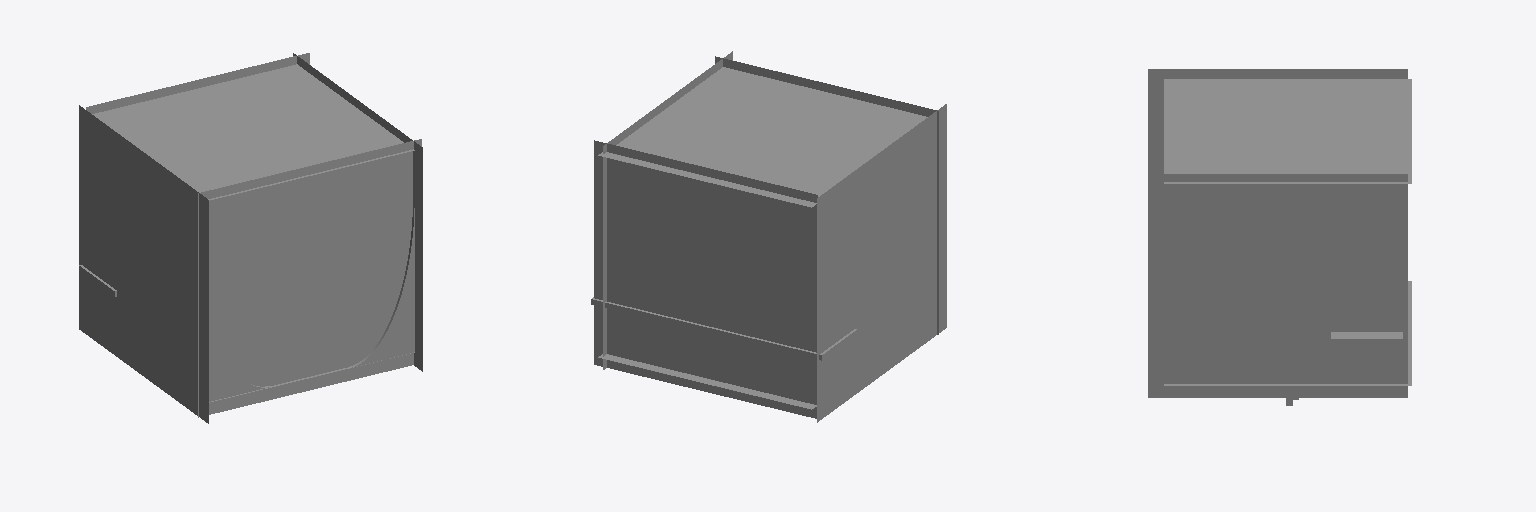
The model's file is Throne_map.003.obj.
The picture shows the model from 3 angles: view 1: azimuth 30°, elevation 25°; view 2: azimuth 150°, elevation 25°; view 3: azimuth 270°, elevation 25°; orthographic projection.
Visible parts, largest first — view 1: Wall_Front_Plane.002, Wall_Left_Plane.006, Floor_Roof_Plane.007, Wall_Right_Plane.005, Plane_Plane.001, Wall_Back_Plane.004, Plane.001_Plane.003; view 2: Wall_Back_Plane.004, Wall_Left_Plane.006, Floor_Roof_Plane.007, Wall_Front_Plane.002, Wall_Right_Plane.005, Flor_Dias_Cube.002, Floor_Ground_Plane; view 3: Wall_Right_Plane.005, Floor_Roof_Plane.007, Wall_Left_Plane.006, Floor_Ground_Plane, Flor_Dias_Cube.002.
Boxes of the visible parts, x1,y1,x2,y2 form: Wall_Front_Plane.002: [198, 139, 421, 417]; Wall_Left_Plane.006: [79, 105, 208, 423]; Floor_Roof_Plane.007: [92, 64, 414, 200]; Wall_Right_Plane.005: [293, 53, 422, 371]; Plane_Plane.001: [350, 151, 414, 367]; Wall_Back_Plane.004: [86, 53, 309, 113]; Plane.001_Plane.003: [209, 294, 269, 401]; Wall_Back_Plane.004: [594, 140, 817, 418]; Wall_Left_Plane.006: [817, 104, 946, 422]; Floor_Roof_Plane.007: [598, 67, 927, 207]; Wall_Front_Plane.002: [715, 56, 938, 334]; Wall_Right_Plane.005: [603, 51, 732, 369]; Flor_Dias_Cube.002: [591, 297, 857, 360]; Floor_Ground_Plane: [598, 354, 816, 409]; Wall_Right_Plane.005: [1148, 174, 1407, 397]; Floor_Roof_Plane.007: [1164, 79, 1411, 183]; Wall_Left_Plane.006: [1148, 69, 1407, 173]; Floor_Ground_Plane: [1164, 281, 1411, 385]; Flor_Dias_Cube.002: [1331, 332, 1402, 343].
Bounding box in the file's own units: 13.74 × 15.01 × 13.58.